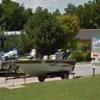Boat: (16, 47, 85, 86)
